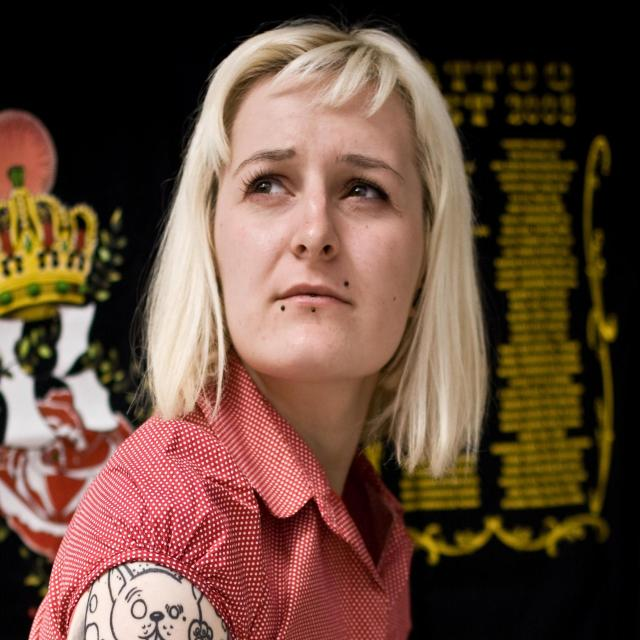no-glass: (233, 177, 410, 213)
